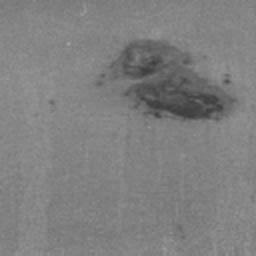Iron sheet ash: (93, 36, 242, 124)
